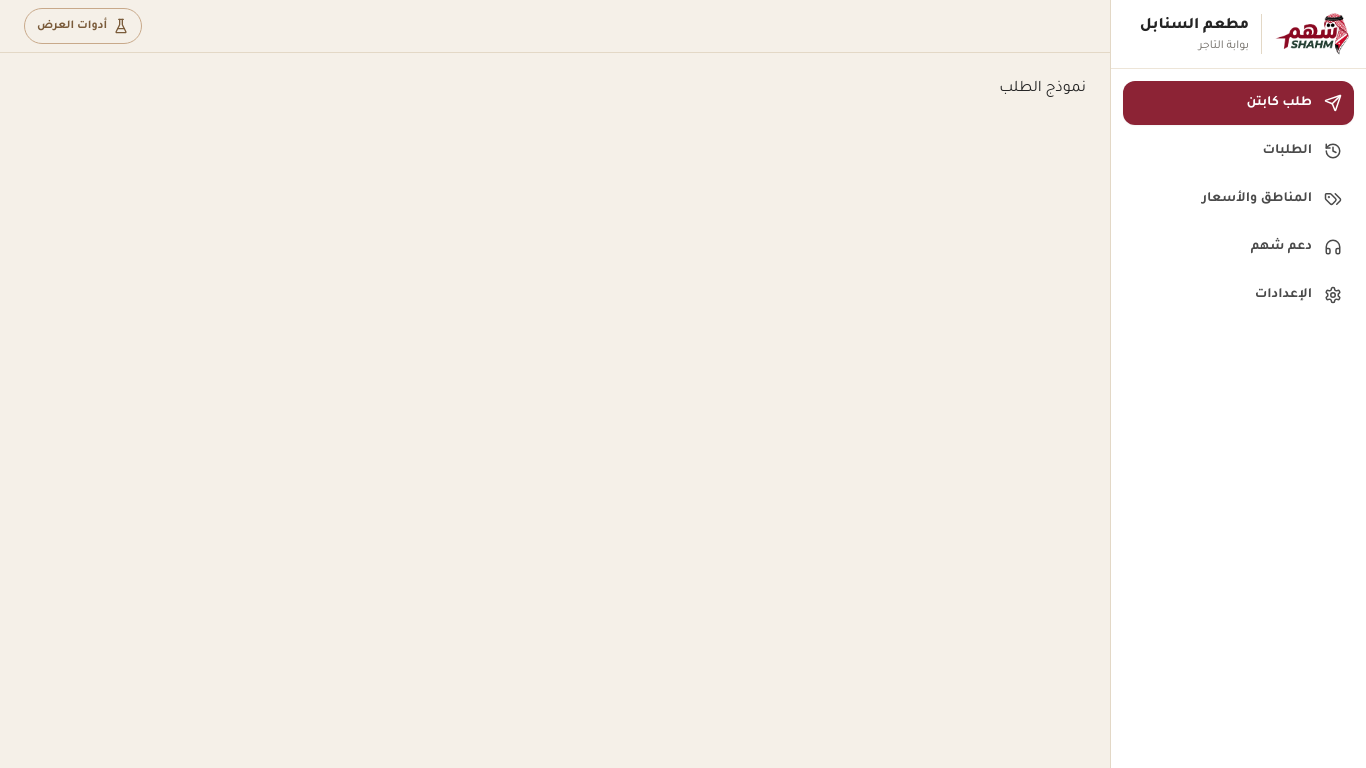
Merchant navigation (right sidebar) › sidebar links open the existing routes
This screenshot has width=1366, height=768.
Click the link "الطلبات": [1302, 151] box [1262,142,1342,160]
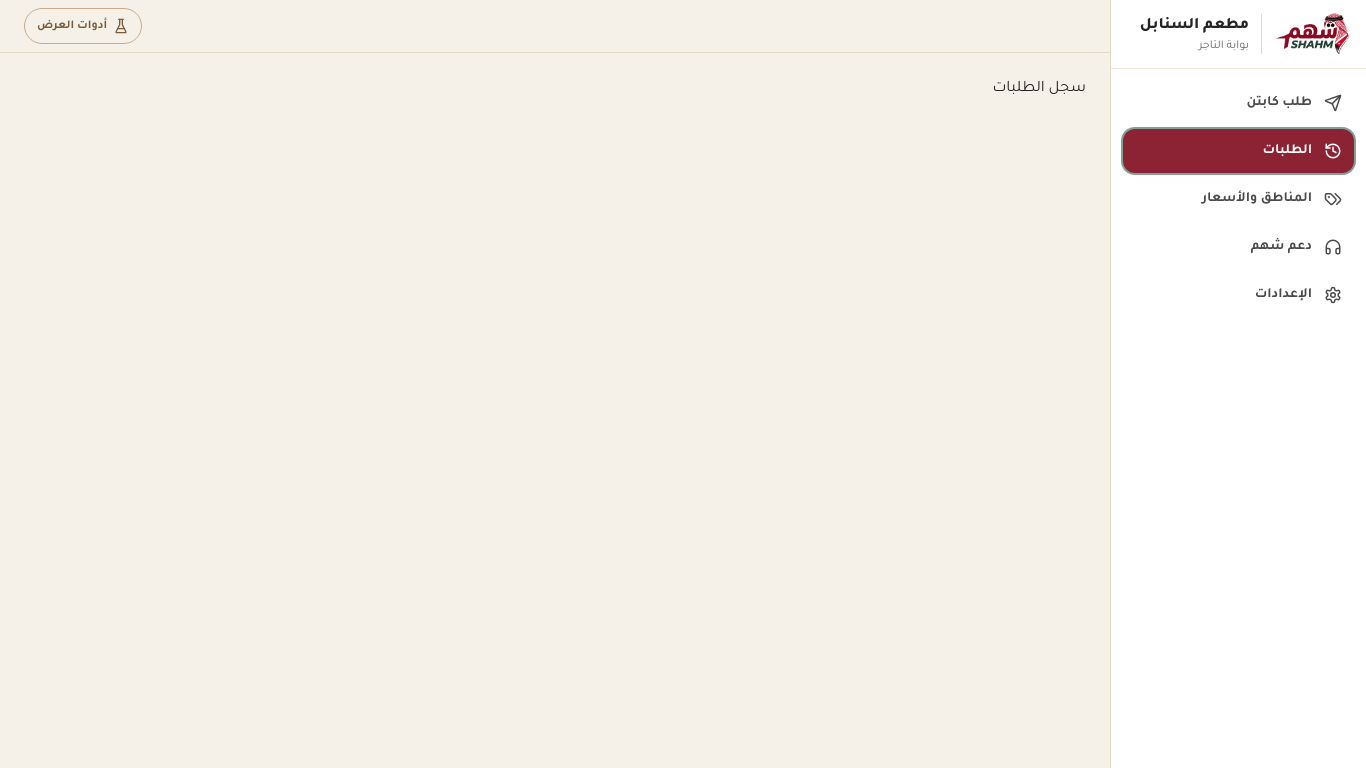
Expected: the text "سجل الطلبات" is shown, [992,81,1086,97]
Click the link "المناطق والأسعار": [1272, 199] box [1202,190,1342,208]
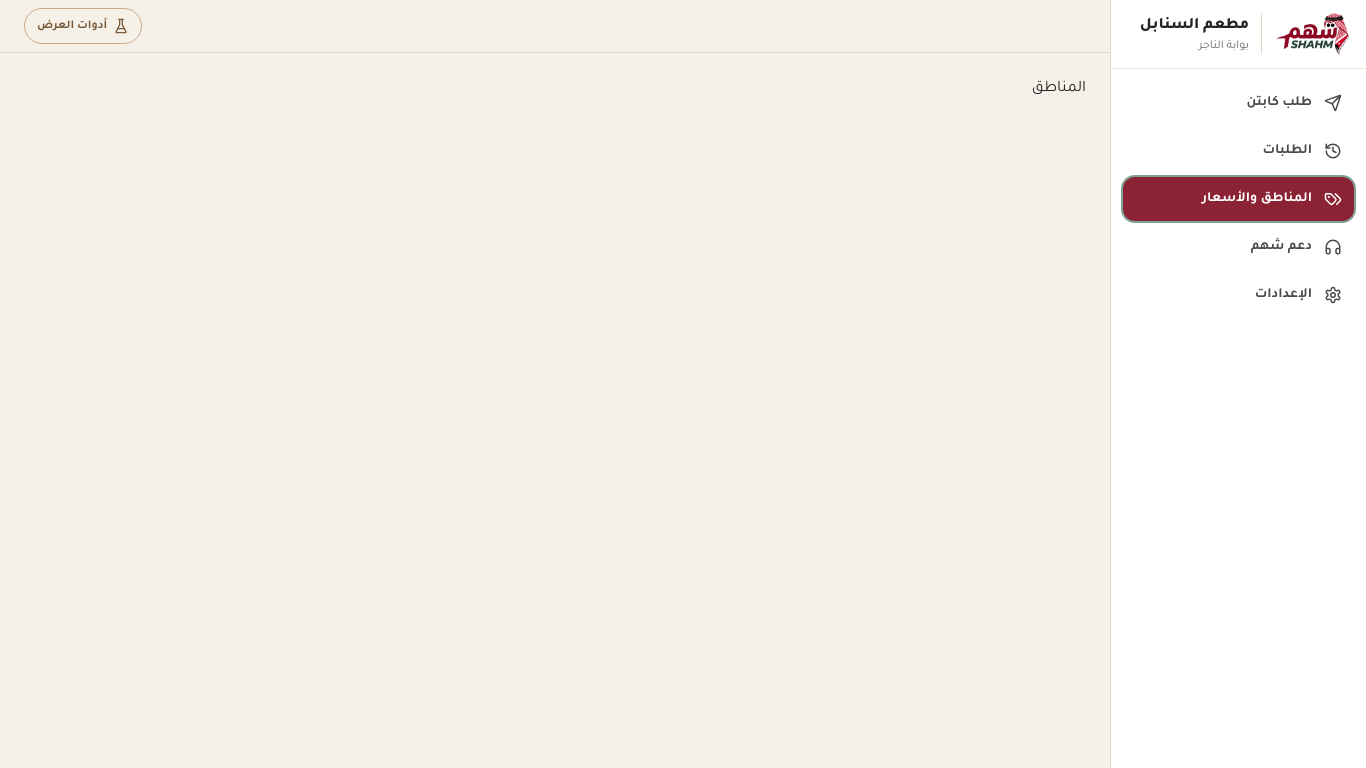
Expected: the text "المناطق" is shown, [1032,81,1086,97]
